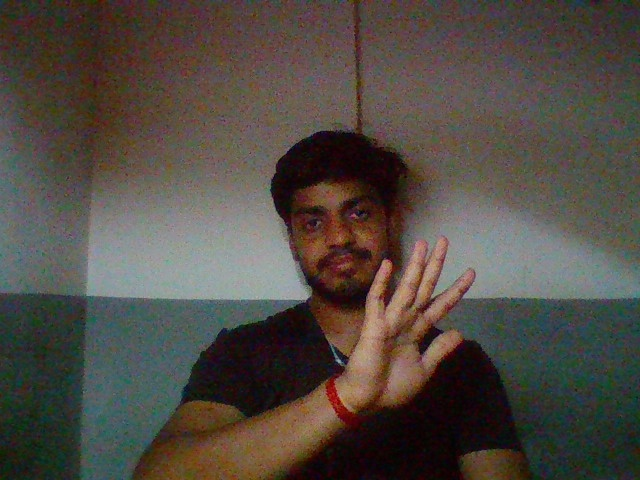Hello: (332, 231, 483, 428)
